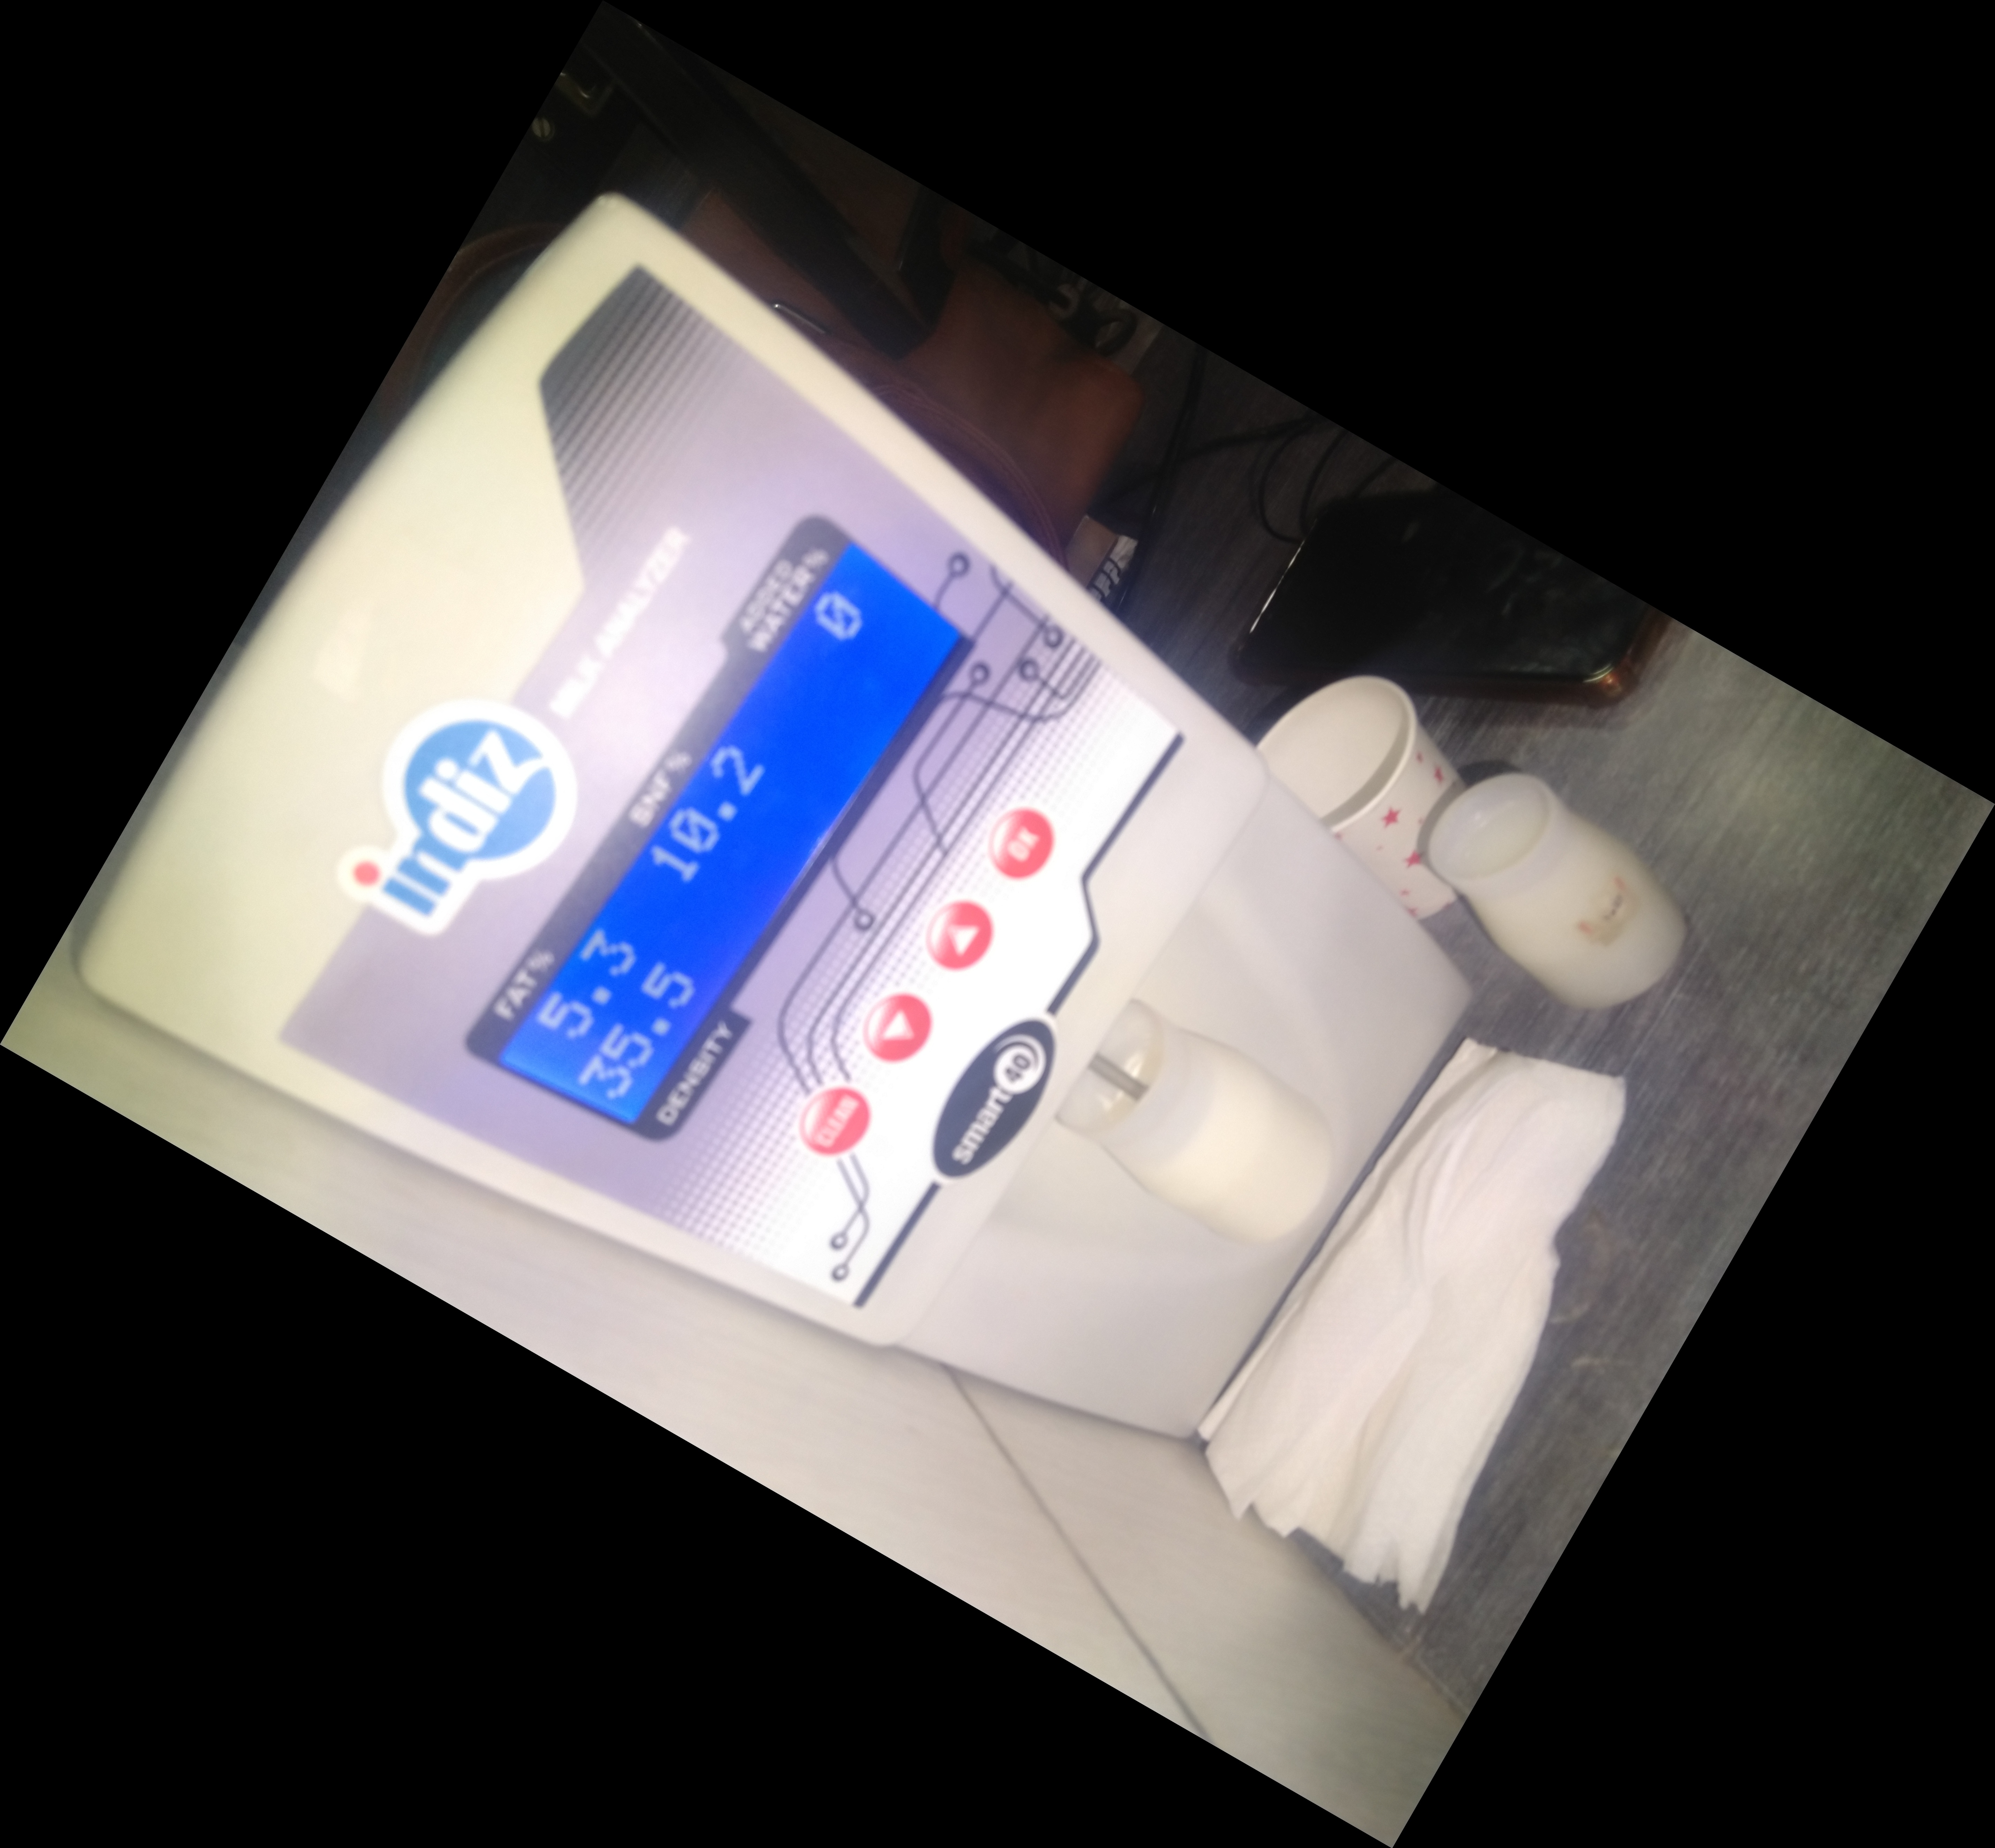lcd: (467, 530, 978, 1121)
